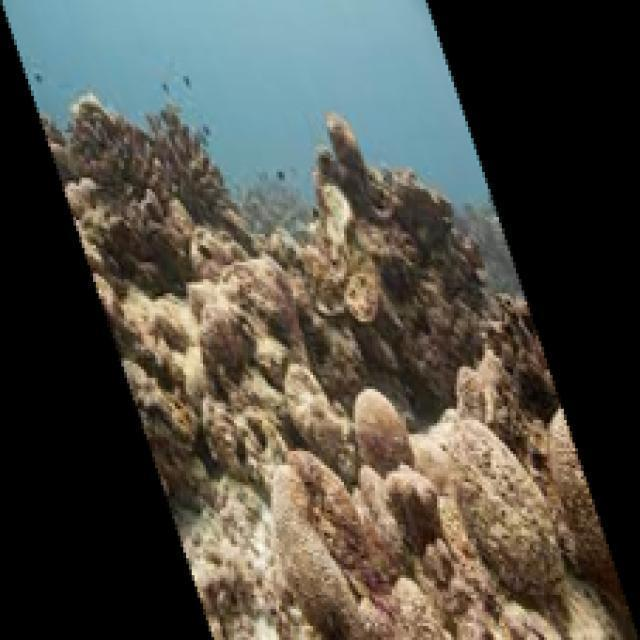Dead Coral: (254, 401, 588, 622), (285, 117, 510, 398), (59, 42, 301, 258), (149, 224, 327, 430)
